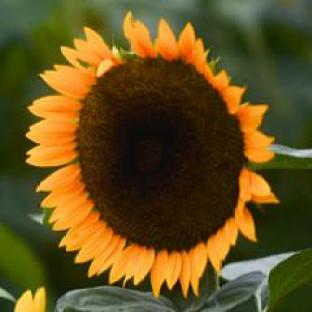sunflower: (26, 12, 279, 312)
